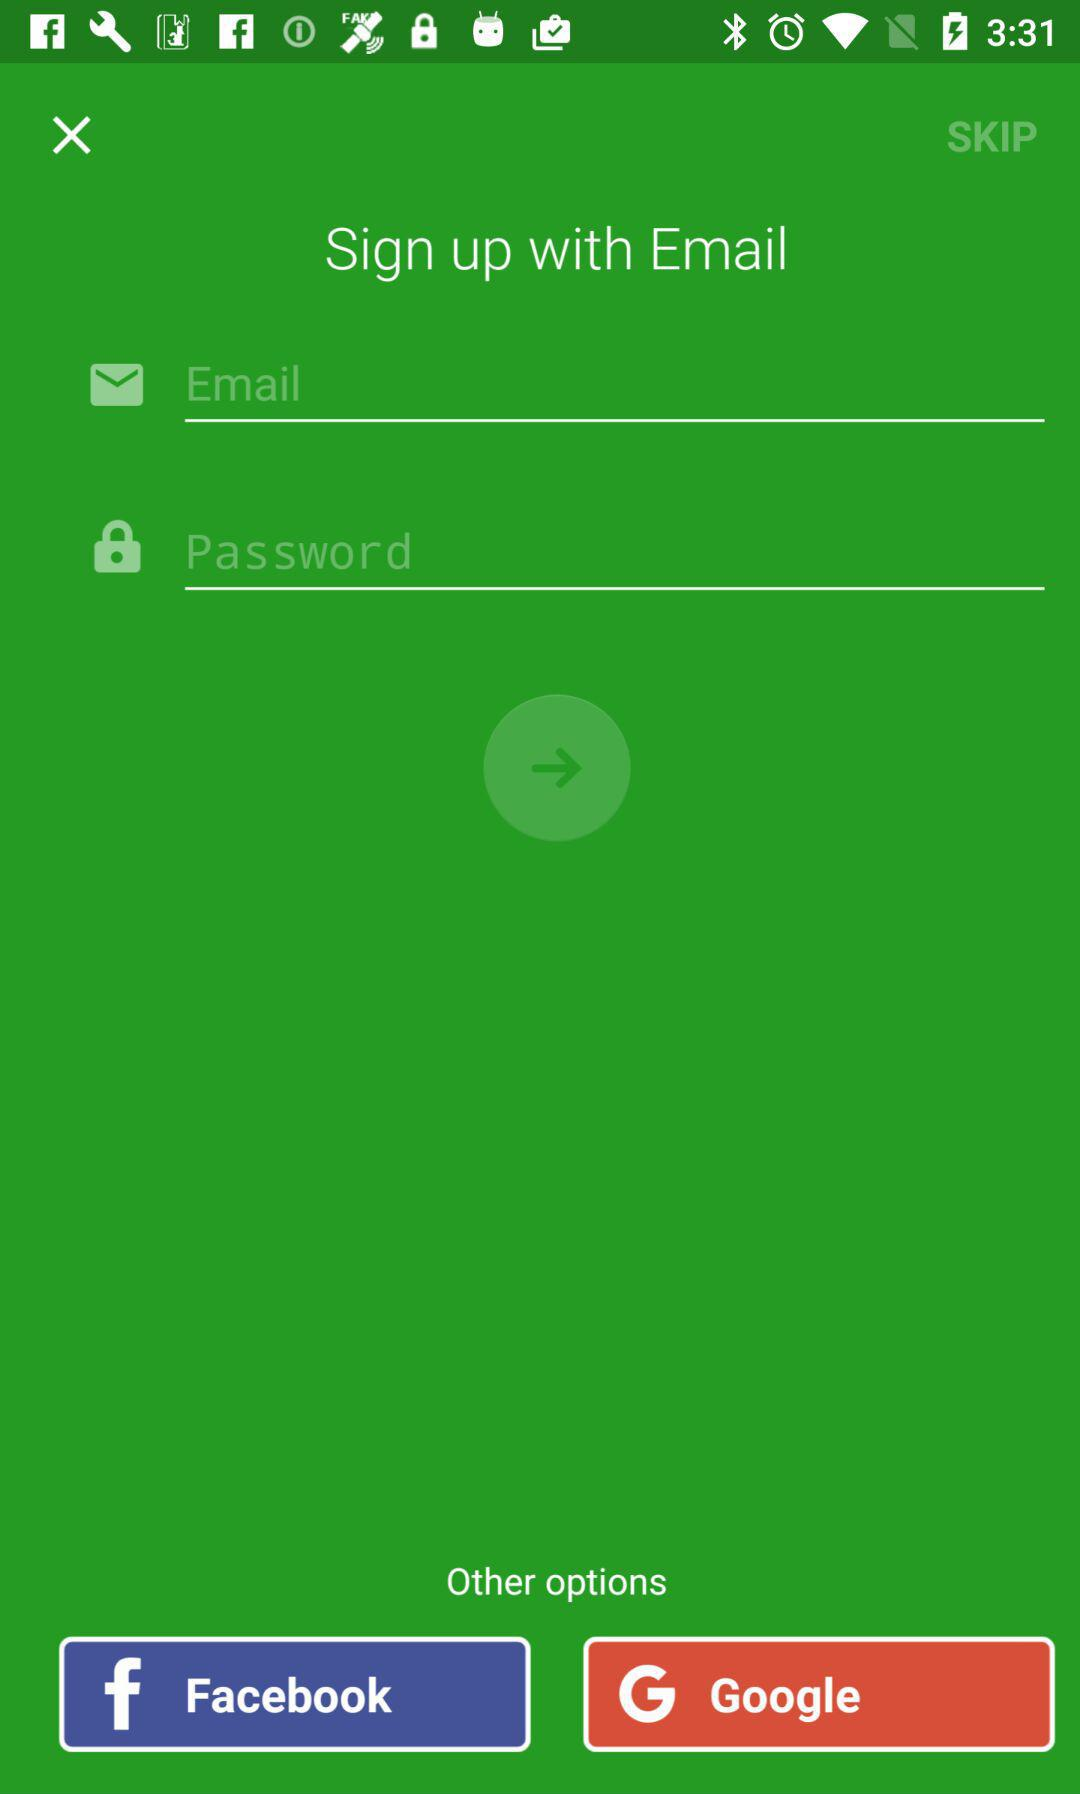EditText: (184, 531, 1045, 592), (184, 365, 1045, 424)
Icon: (483, 695, 633, 844), (94, 519, 142, 574), (90, 364, 145, 407), (53, 117, 94, 156)
Text: (325, 226, 787, 284), (188, 532, 411, 572), (447, 1565, 667, 1604), (188, 365, 300, 404), (945, 120, 1038, 154)
TextButton: (582, 1635, 1056, 1753), (59, 1636, 532, 1753)
UpperTaskBar: (1, 1, 1080, 64)
